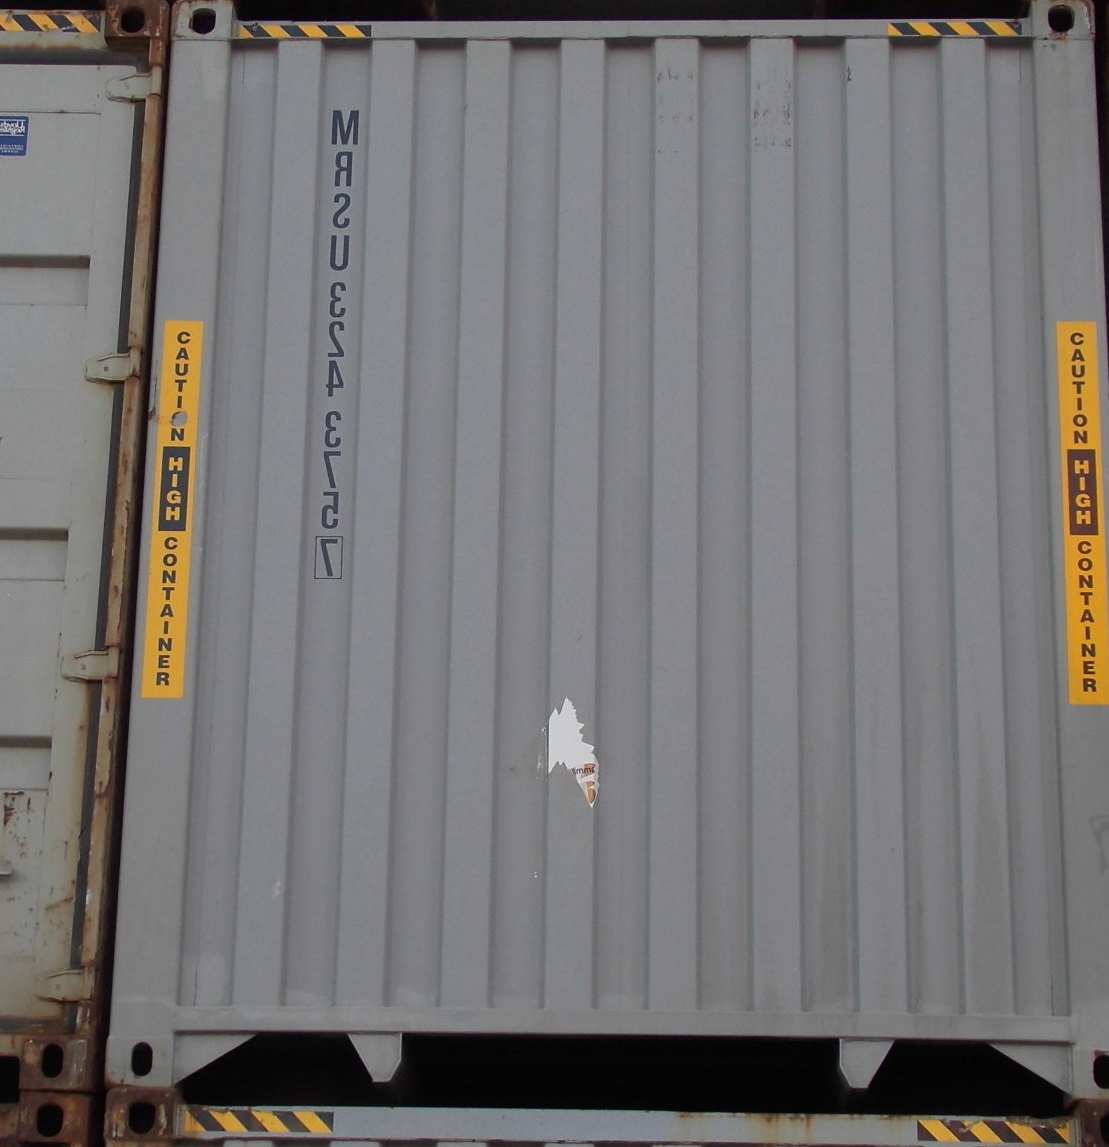container_no_door: (115, 10, 1091, 1070)
